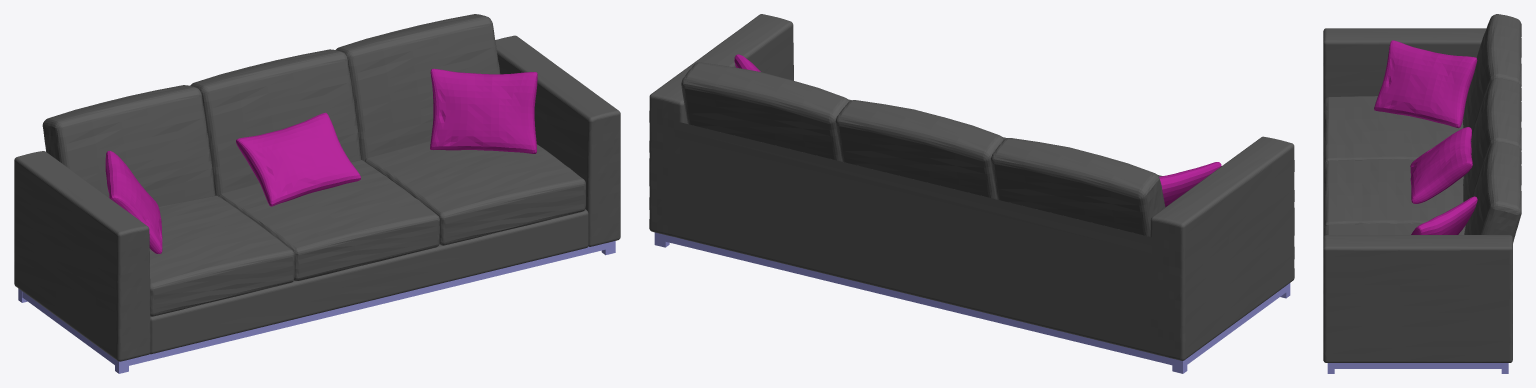
Rendered from Sofa_Phoenix_OBJ.obj.
3 renders of one model, left to right at view 1: azimuth 30°, elevation 25°; view 2: azimuth 150°, elevation 25°; view 3: azimuth 270°, elevation 25°, orthographic. The views are drawn at different scales.
Visible parts, largest first — view 1: Object001, ChamferBox041, ChamferBox048, ChamferBox045, ChamferBox046, ChamferBox047, ChamferBox049, ChamferBox044, ChamferBox042, Box014, Box013, Box016 (+2 smaller); view 2: Object001, ChamferBox048, ChamferBox049, ChamferBox047, ChamferBox042, Box015, Box023, Box017; view 3: ChamferBox042, ChamferBox046, Object001, ChamferBox044, Box023, ChamferBox047, ChamferBox048, ChamferBox049, Box013, Box014, ChamferBox045, Box018.
Part boxes in pixels (x1,y1,x2,y2): Object001: [14, 151, 150, 361]; ChamferBox041: [149, 209, 588, 354]; ChamferBox048: [42, 85, 215, 206]; ChamferBox045: [364, 141, 585, 245]; ChamferBox046: [218, 160, 439, 280]; ChamferBox047: [336, 14, 500, 160]; ChamferBox049: [190, 49, 361, 196]; ChamferBox044: [149, 195, 294, 316]; ChamferBox042: [495, 35, 620, 246]; Box014: [430, 68, 537, 153]; Box013: [236, 112, 360, 206]; Box016: [113, 241, 615, 368]; Object001: [679, 122, 1294, 360]; ChamferBox048: [991, 138, 1165, 236]; ChamferBox049: [835, 100, 1003, 199]; ChamferBox047: [681, 62, 849, 161]; ChamferBox042: [649, 14, 793, 238]; Box015: [654, 232, 1189, 367]; Box023: [1159, 162, 1221, 206]; Box017: [1189, 287, 1283, 362]; ChamferBox042: [1323, 235, 1512, 362]; ChamferBox046: [1324, 159, 1465, 230]; Object001: [1323, 28, 1486, 126]; ChamferBox044: [1324, 96, 1463, 169]; Box023: [1374, 40, 1477, 128]; ChamferBox047: [1464, 141, 1521, 242]; ChamferBox048: [1463, 14, 1521, 139]; ChamferBox049: [1463, 78, 1521, 201]; Box013: [1410, 127, 1472, 203]; Box014: [1411, 196, 1477, 234]; ChamferBox045: [1324, 223, 1465, 235]; Box018: [1338, 363, 1497, 368].
Bounding box in the file's own units: 74.26 × 25.09 × 28.22.
